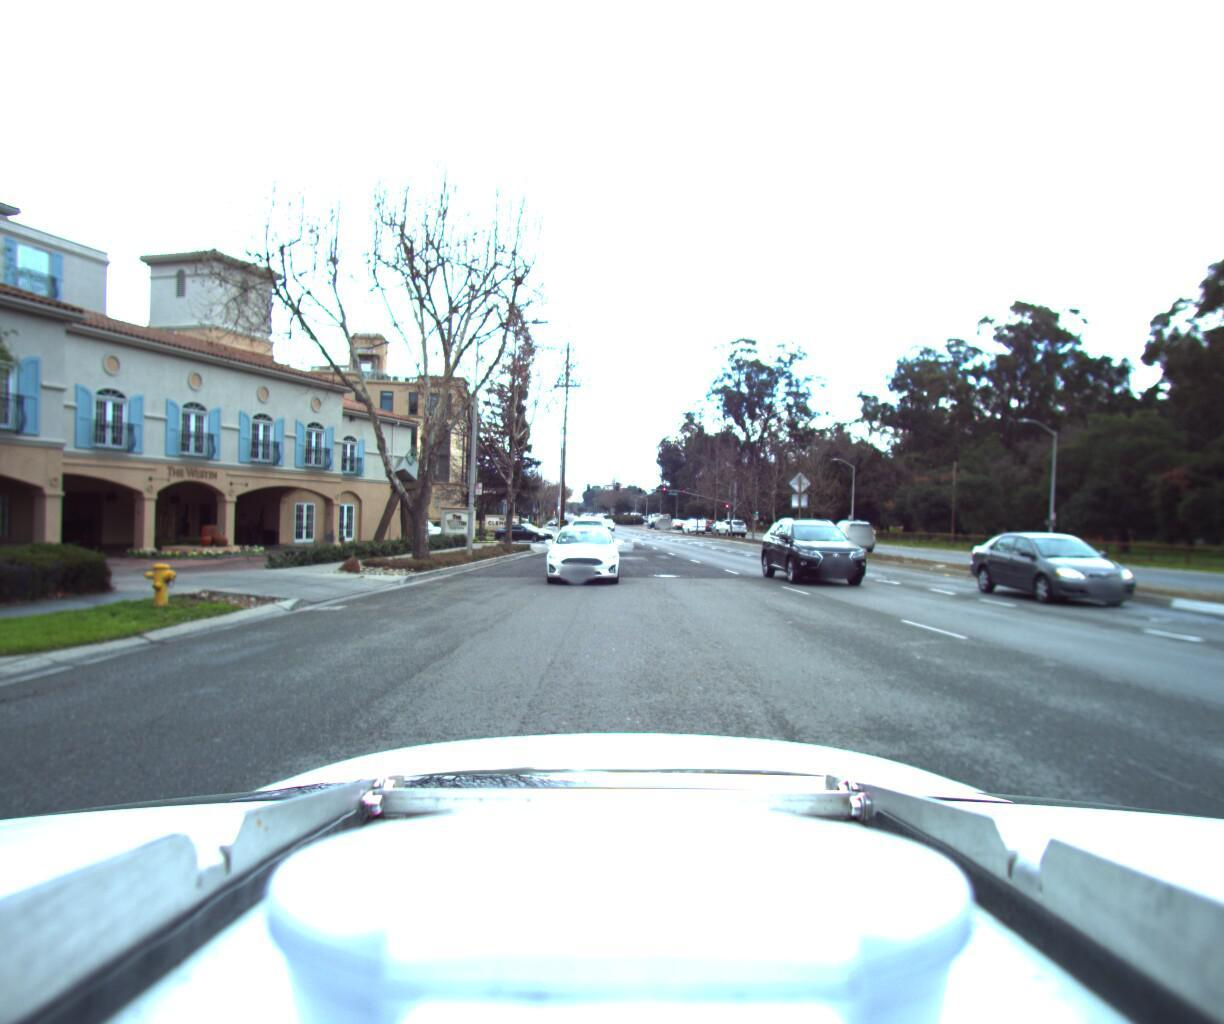car: (992, 518, 1217, 612), (768, 508, 895, 587), (534, 516, 617, 583), (821, 506, 876, 542), (489, 514, 559, 537), (391, 510, 447, 533), (712, 510, 748, 530)
